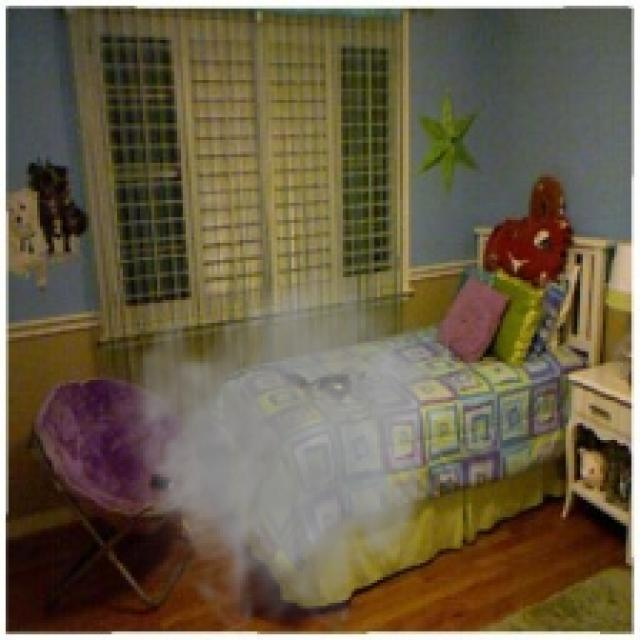smoke: (103, 260, 448, 637)
